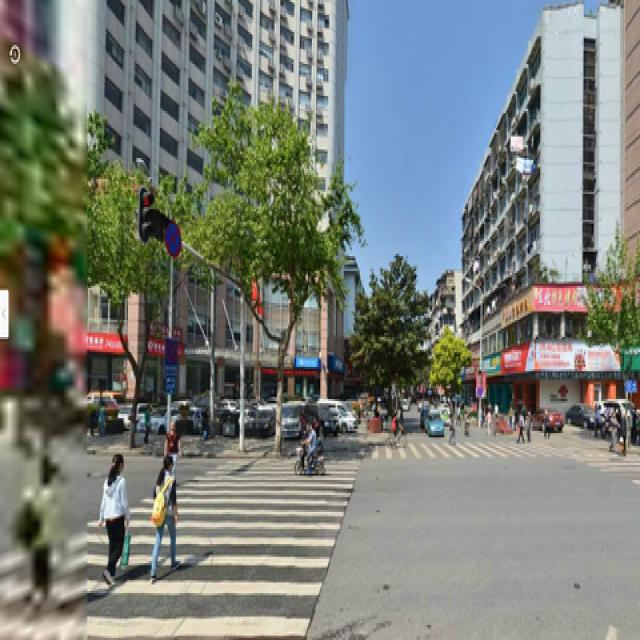meta: (223, 106, 309, 444)
